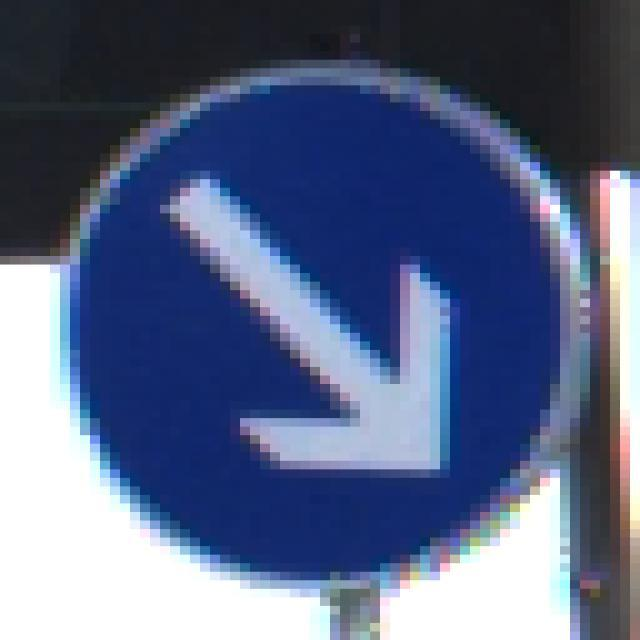compulsary keep right: (56, 62, 584, 583)
